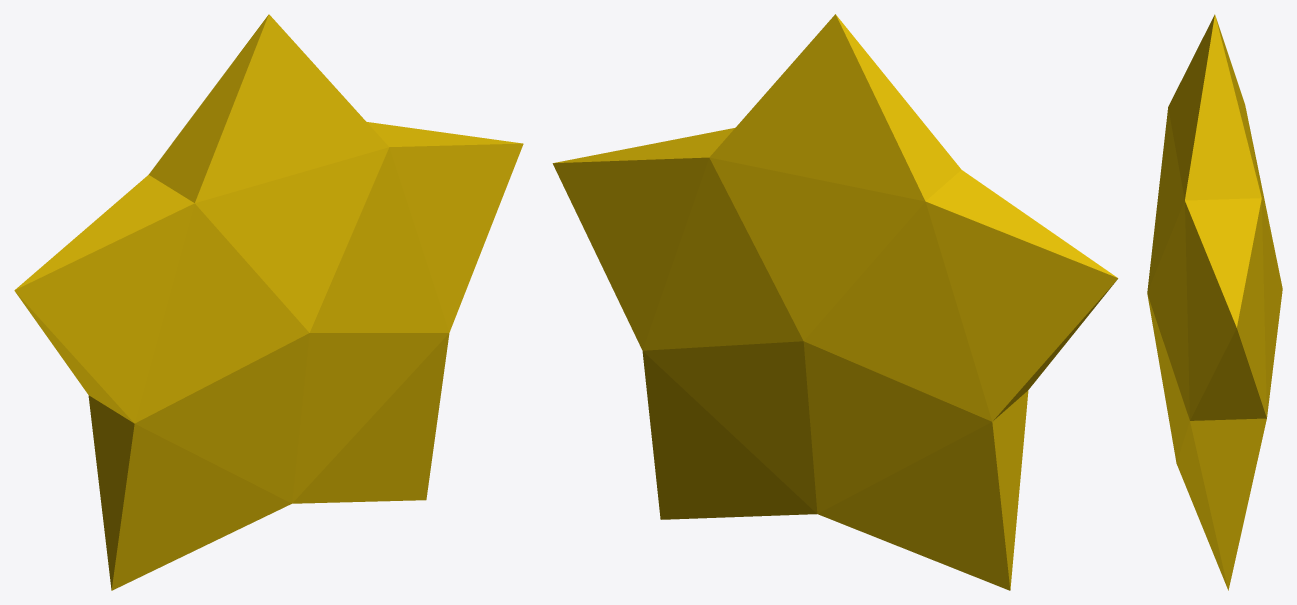
File: звезда 1.fbx
3 views of the same model, side by side, from view 1: azimuth 30°, elevation 25°; view 2: azimuth 150°, elevation 25°; view 3: azimuth 270°, elevation 25° (orthographic). The views are drawn at different scales.
Visible parts, largest first — view 1: Икосфера; view 2: Икосфера; view 3: Икосфера.
Part boxes in pixels (<box>): Икосфера: <box>14,14,523,590</box>; Икосфера: <box>552,14,1118,590</box>; Икосфера: <box>1147,14,1282,590</box>.
Size of the model in its own units: 161 by 154 by 37.71.
